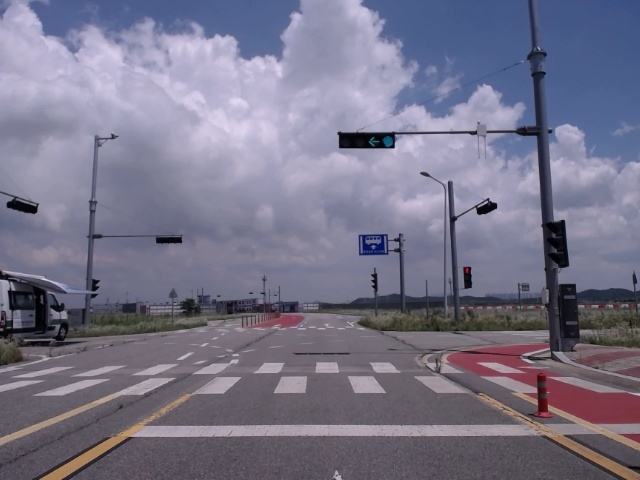all_green_4: (338, 131, 396, 148)
